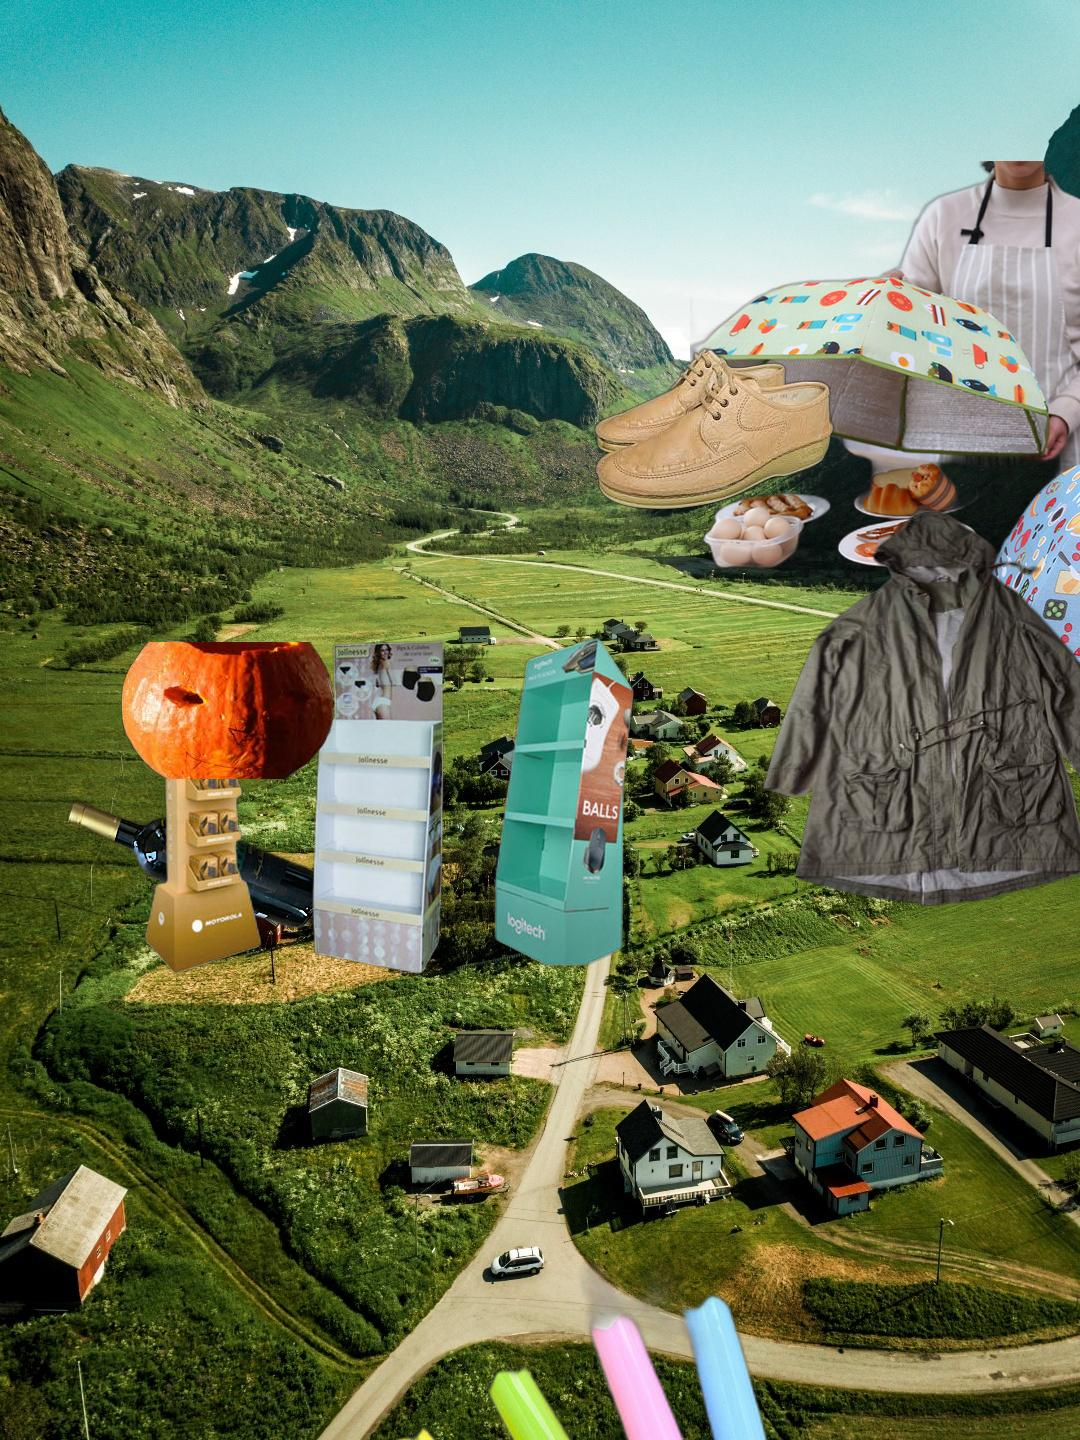biological: (690, 161, 1080, 686), (118, 642, 336, 779)
clothes: (760, 507, 1080, 909)
glass: (63, 613, 380, 934)
penholder: (201, 1108, 1001, 1440)
shoes: (592, 345, 837, 512)
trashbox-cardboard: (140, 633, 639, 978), (197, 1210, 886, 1440)
